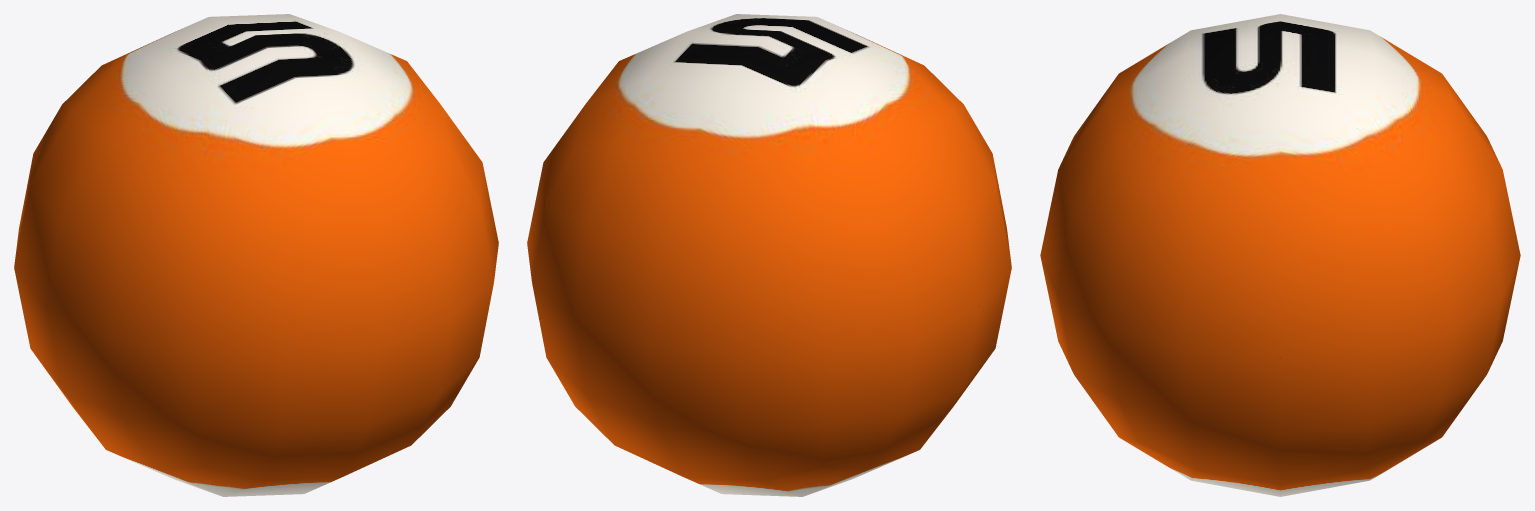
Rendered from ball_05.fbx.
3 renders of one model, left to right at view 1: azimuth 30°, elevation 25°; view 2: azimuth 150°, elevation 25°; view 3: azimuth 270°, elevation 25°, orthographic.
Visible parts, largest first — view 1: BilliardBall.005; view 2: BilliardBall.005; view 3: BilliardBall.005.
Part boxes in pixels (x1,y1,x2,y2): BilliardBall.005: [14, 14, 498, 496]; BilliardBall.005: [527, 14, 1011, 496]; BilliardBall.005: [1040, 14, 1520, 496].
Bounding box in the file's own units: 0.0753 × 0.0753 × 0.0753.
